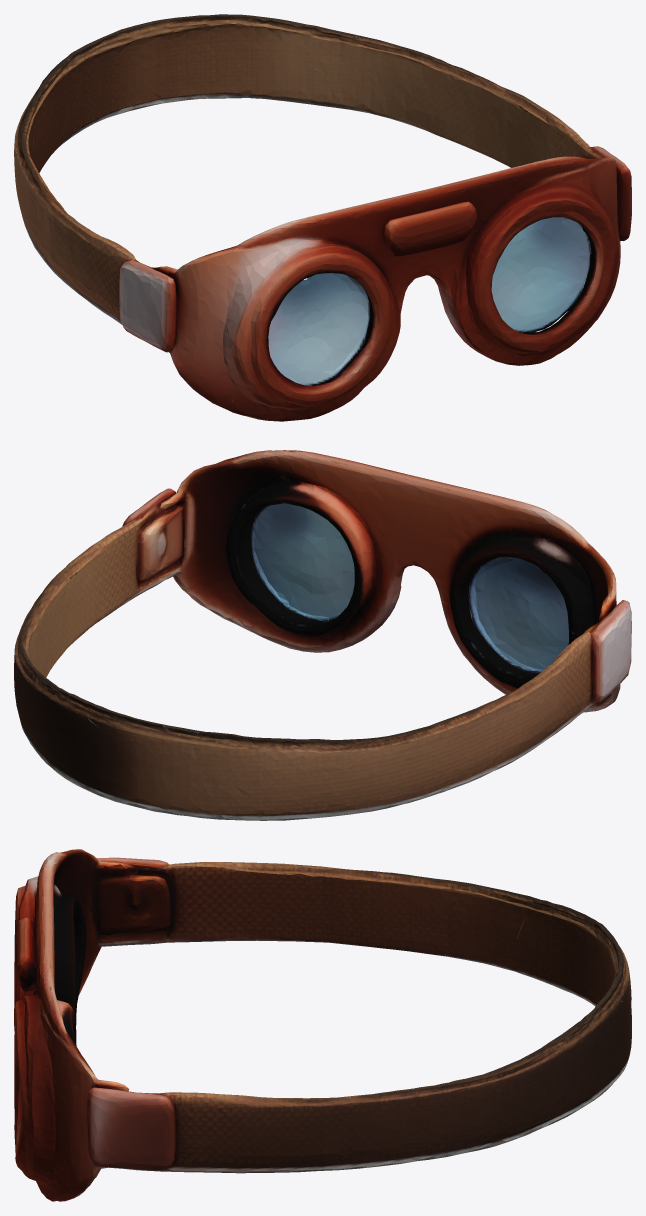
Rendered from hat_goggles.glb.
The picture shows the model from 3 angles, top to bottom: view 1: azimuth 30°, elevation 25°; view 2: azimuth 150°, elevation 25°; view 3: azimuth 270°, elevation 25°; orthographic projection. The views are drawn at different scales.
Parts seen in each view (by area): view 1: world; view 2: world; view 3: world.
Boxes of the visible parts, bbox=[...] form: world: bbox=[14, 14, 631, 421]; world: bbox=[14, 450, 631, 820]; world: bbox=[14, 849, 631, 1201].
Bounding box in the file's own units: 0.9312 × 0.3692 × 1.
Materials: 1 (1 with a texture image).
